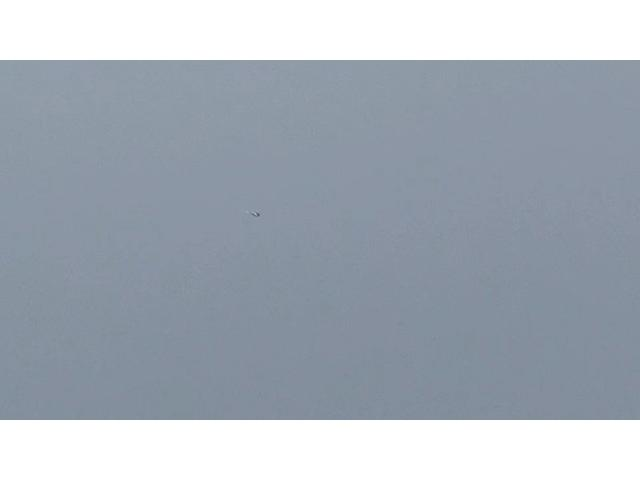Anti-Drone: (243, 204, 264, 222)
